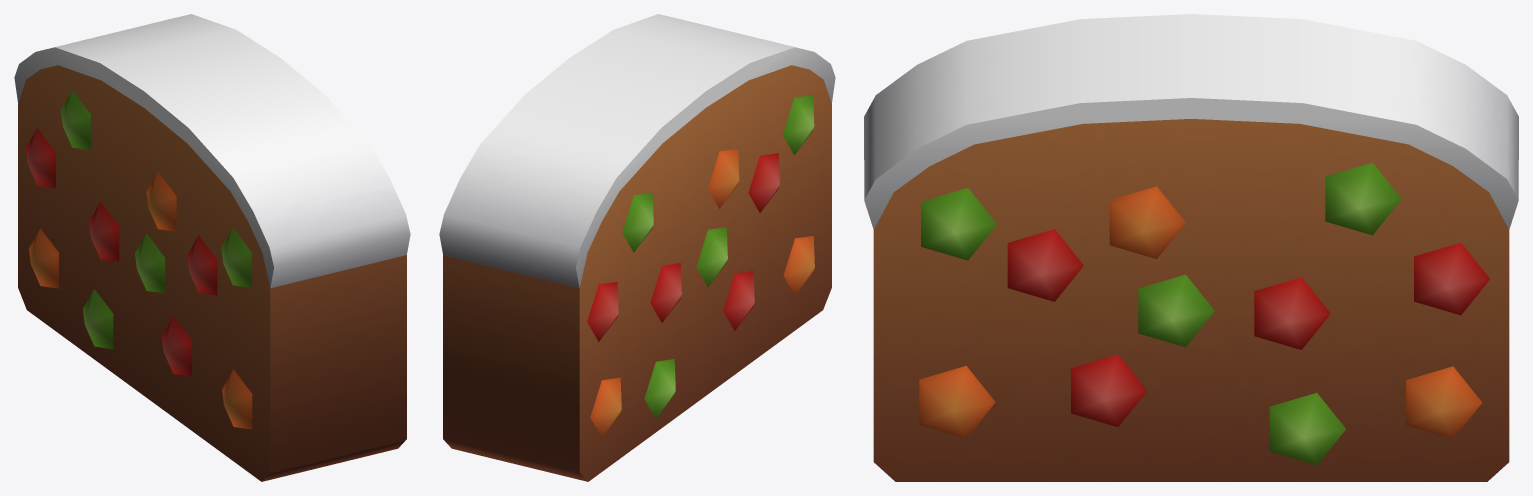
File: m_FruitCake01_Slice02.fbx
3 renders of one model, left to right at view 1: azimuth 30°, elevation 25°; view 2: azimuth 150°, elevation 25°; view 3: azimuth 270°, elevation 25°, orthographic. The views are drawn at different scales.
Parts seen in each view (by area): view 1: m_FruitCake01_Slice02; view 2: m_FruitCake01_Slice02; view 3: m_FruitCake01_Slice02.
Boxes of the visible parts, left/top/right/bottom form: m_FruitCake01_Slice02: left=14, top=14, right=410, bottom=481; m_FruitCake01_Slice02: left=439, top=14, right=835, bottom=481; m_FruitCake01_Slice02: left=864, top=14, right=1518, bottom=481.
Size of the model in its own units: 6.08 by 10.67 by 16.48.
